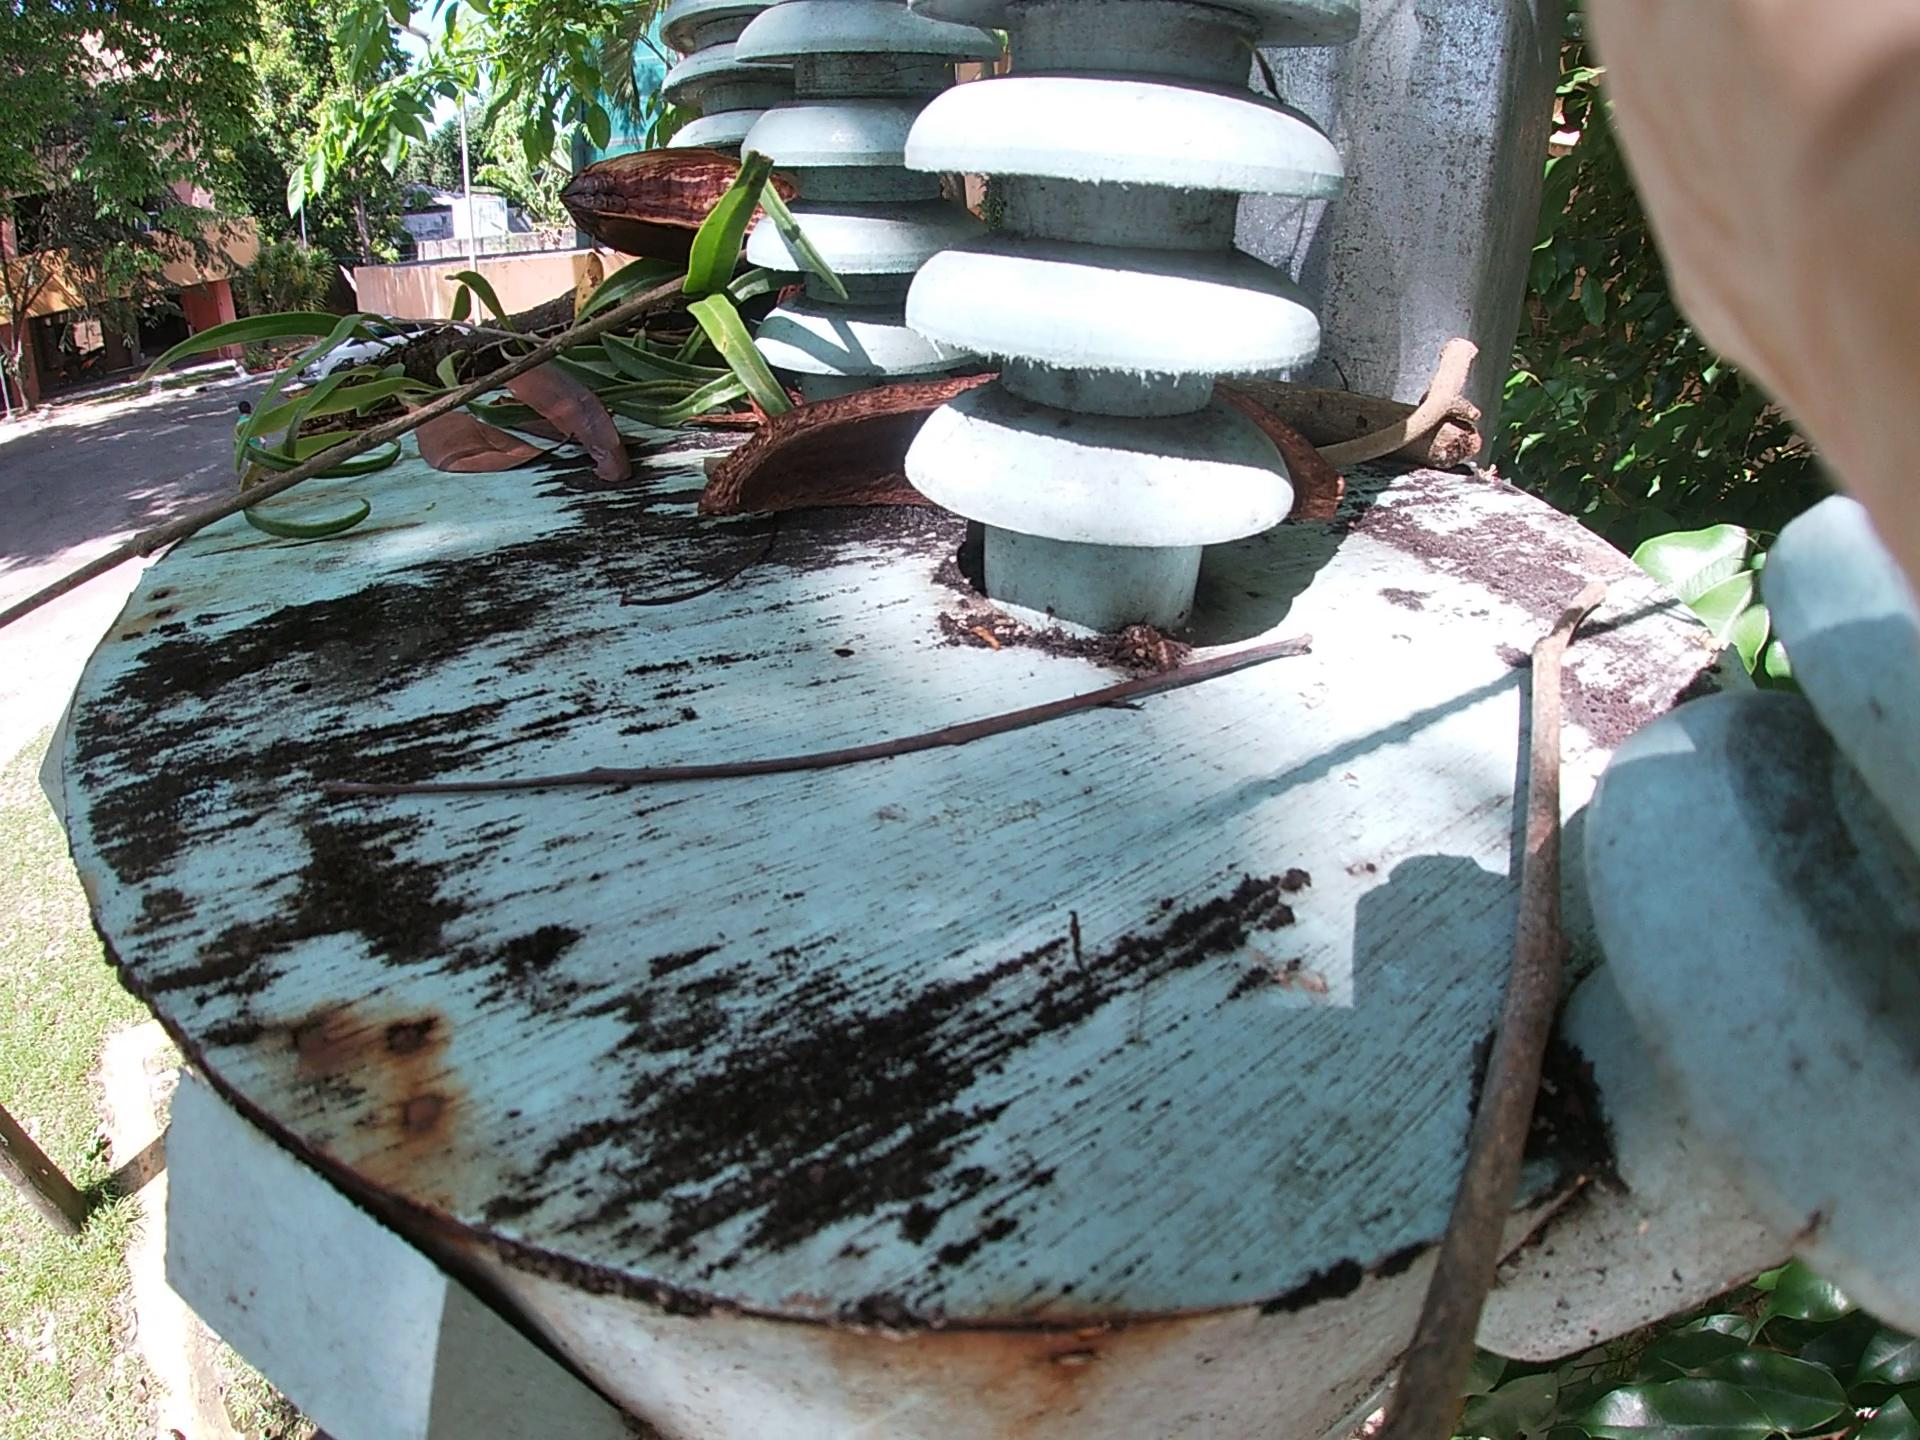branch with leaves: (268, 154, 819, 537)
leaf: (441, 346, 729, 511)
mahogany fruit: (736, 309, 1389, 569), (584, 101, 912, 293)
tree branch: (57, 266, 751, 655), (373, 591, 1324, 774), (1501, 526, 1652, 1337), (1333, 315, 1460, 510)
